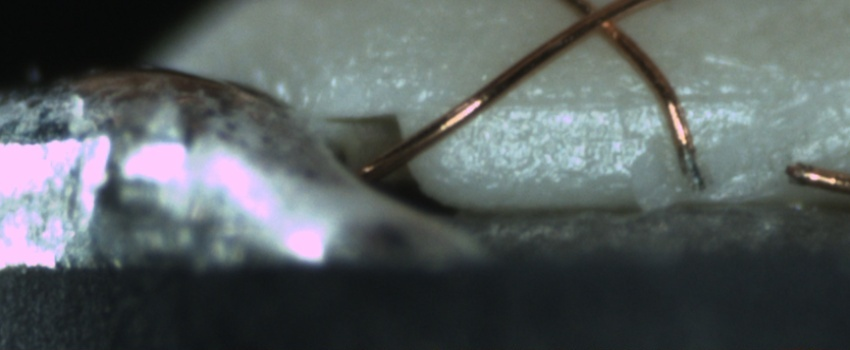CL: (561, 1, 632, 45)
DL: (475, 74, 774, 136)
